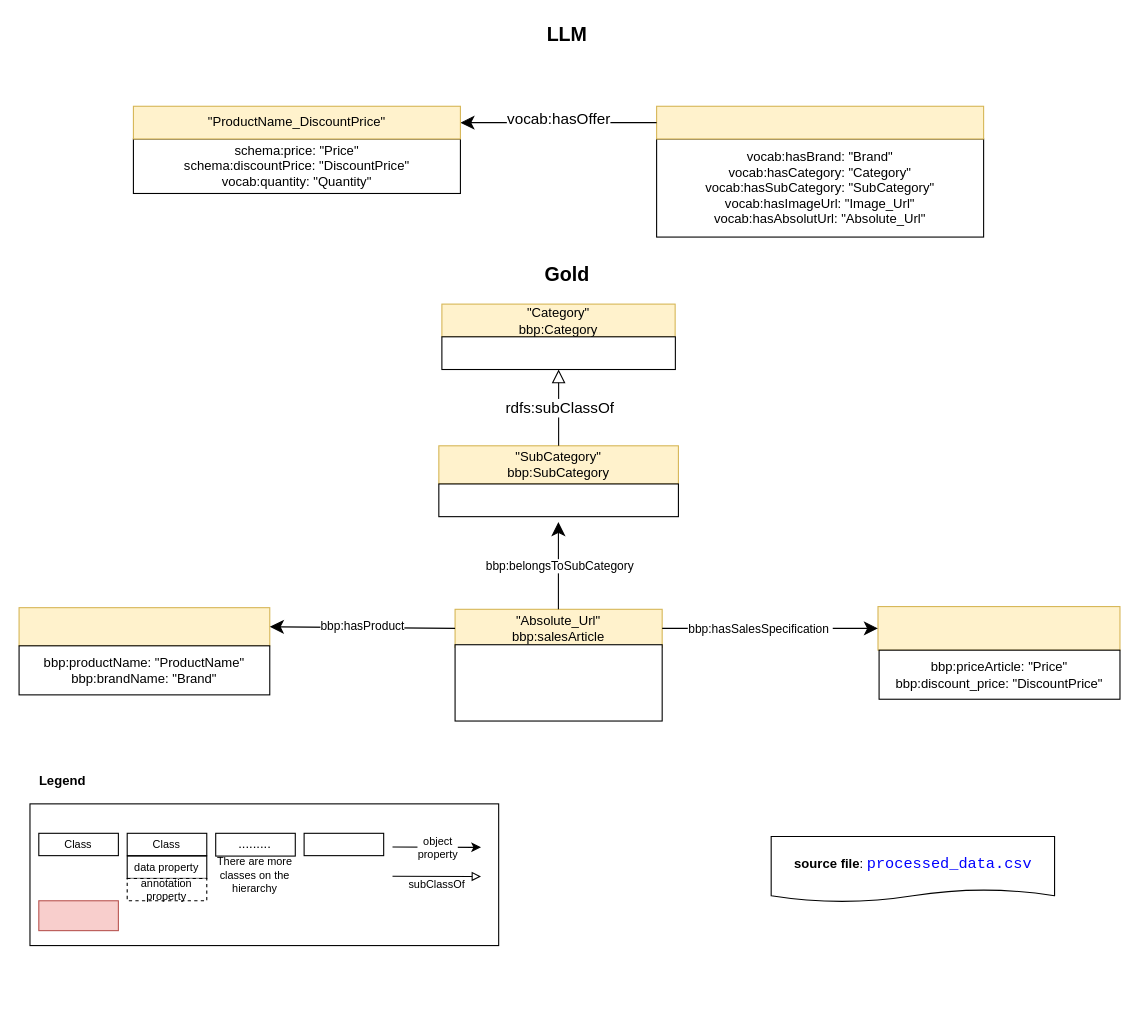
Image size: 1139x1027. Some labels were removed from this diagram. The shapes that lost their labels are listed below. From the top down, each one's centre as x and y in pixels, then its label:
[820,122]: "ProductName"
[558,353]: bbp:categoryName: "Category"
[558,500]: bbp:subCategoryName: "SubCategory"
[144,626]: "ProductName_Brand" bbp:Product
[998,627]: "Price_DiscountPrice" bbp:SalesSpecification
[558,682]: bbp:url: "Absolute_Url" bbp:image: "Image_Url" bbp:productQuantity: "Quantity"
[343,844]: Individual
[78,915]: Term excluded for the current version
